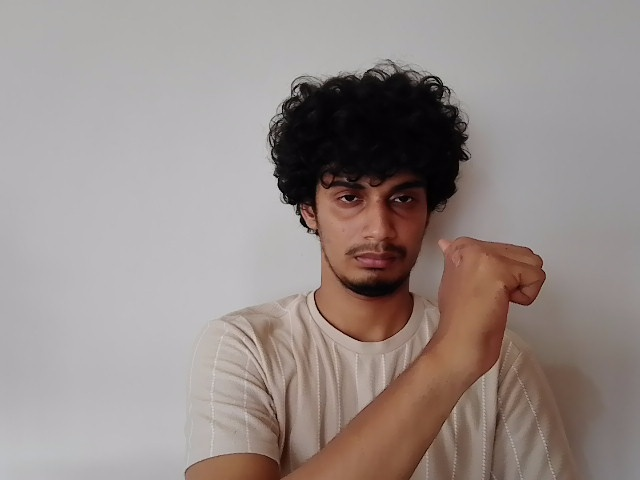how: (429, 235, 547, 376)
